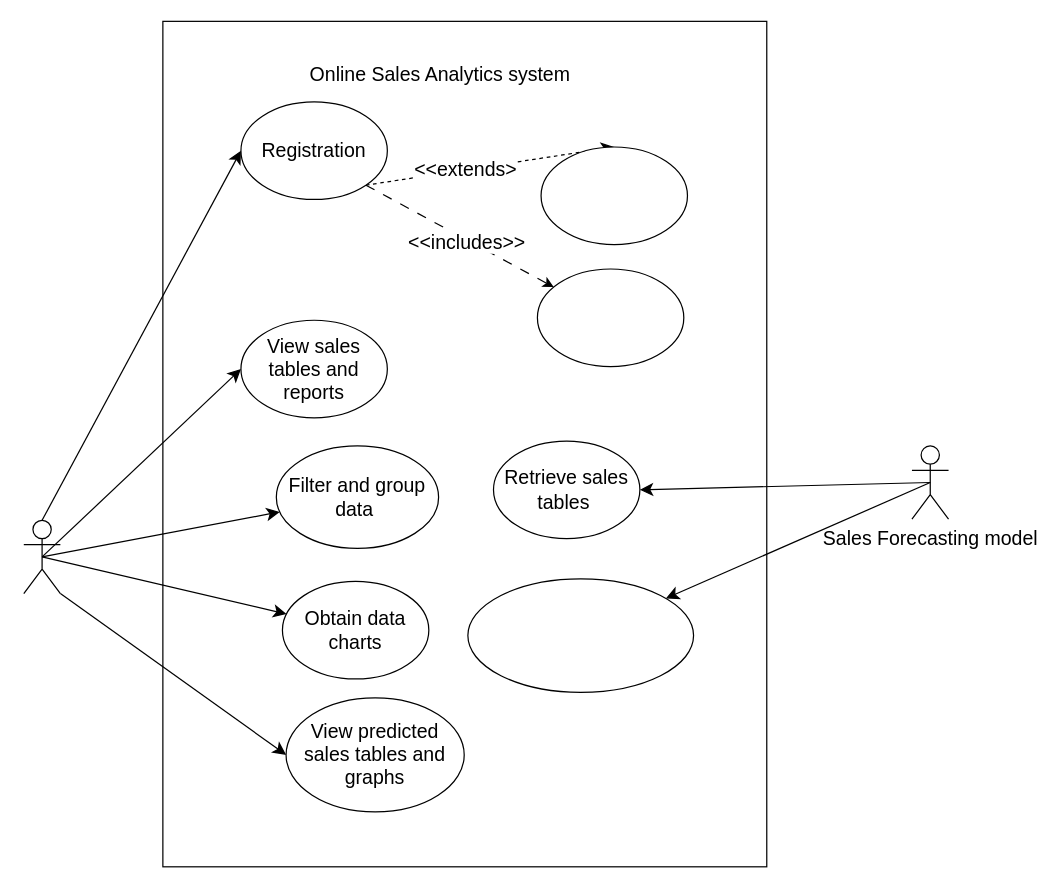
This 1059x888 diagram has some shape labels left out. The shapes that lost their labels are listed below. From the top down, each one's box as (x1, y1, x2, y2) in pixels, then its label:
(540, 146, 687, 245): Verification
(536, 268, 684, 367): Login
(23, 519, 60, 594): User
(467, 578, 694, 692): Store predicted sales data
